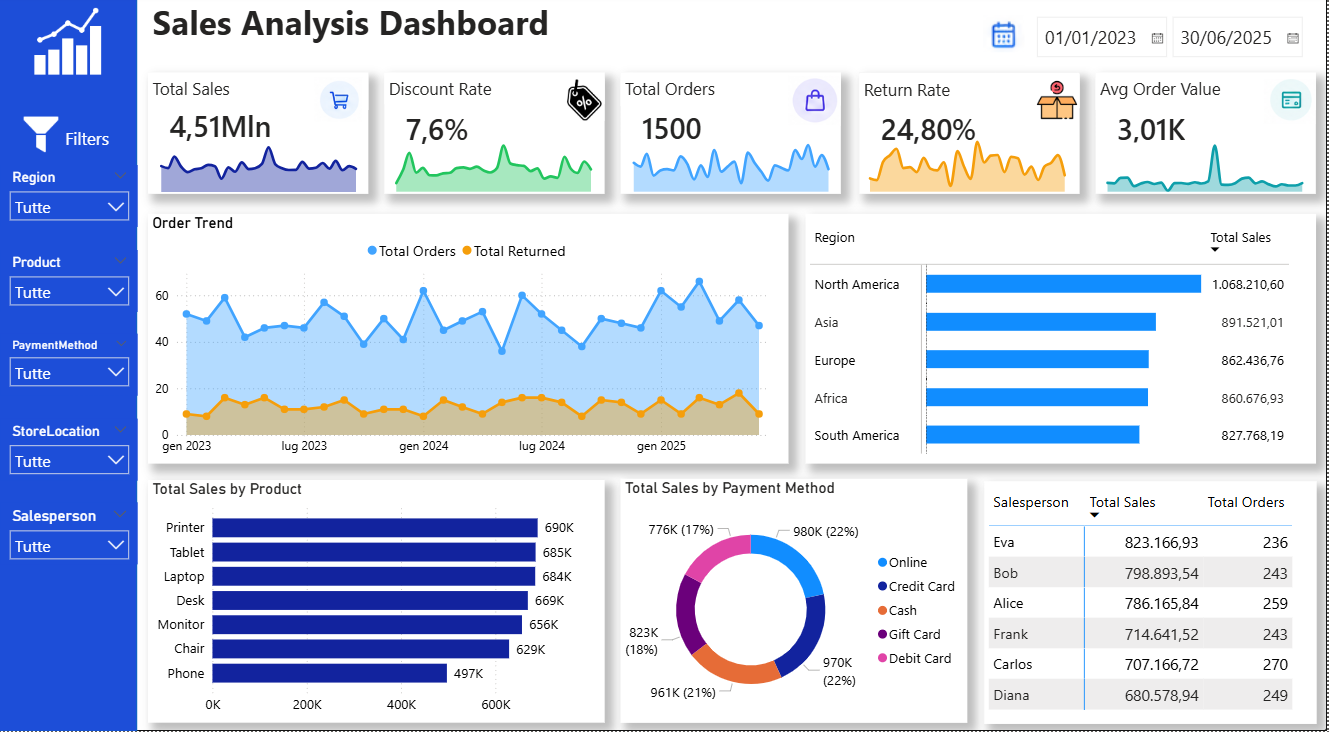

This screenshot's page, from the dashboard's own definition file:
{"tool":"powerbi","page":{"name":"Pagina 1","canvas":[1480,820],"ordinal":0},"visuals":[{"type":"textbox","box":[166.8,0,462.1,71.7],"z":0},{"type":"shape","box":[0,0,155,820.8],"z":1000},{"type":"shape","box":[166.8,86.7,245.2,135.1],"z":2000},{"type":"shape","box":[430.4,86.7,245.2,135.1],"z":3000},{"type":"shape","box":[694,86.7,245.2,135.1],"z":4000},{"type":"shape","box":[959.2,86.7,245.2,135.1],"z":5000},{"type":"shape","box":[1222.8,86.7,245.2,135.1],"z":6000},{"type":"textbox","box":[430.4,86.7,245.2,35],"z":7000},{"type":"textbox","box":[959.2,88.4,245.2,38.4],"z":8000},{"type":"textbox","box":[166.8,86.7,245.2,41.7],"z":9000},{"type":"textbox","box":[694,86.7,245.2,36.7],"z":10000},{"type":"textbox","box":[1222.8,86.7,245.2,41.7],"z":11000},{"type":"cardVisual","fields":{"Data":["Measure.Total Sales"]},"box":[166.8,111.8,171.8,65.1],"z":12000},{"type":"cardVisual","fields":{"Data":["Measure.Discount Rate"]},"box":[430.4,110.8,123.4,73.4],"z":13000},{"type":"cardVisual","fields":{"Data":["Measure.Return Rate"]},"box":[959.2,116.6,160.1,61.7],"z":14000},{"type":"lineChart","fields":{"Y":["Measure.Total Sales"],"Category":["Calendar.Date.Variazione.Gerarchia data.Anno","Calendar.Date.Variazione.Gerarchia data.Mese"]},"box":[166.8,148.5,246.9,76.7],"z":15000},{"type":"cardVisual","fields":{"Data":["Measure.Total Orders"]},"box":[694,113.3,136.8,68.4],"z":16000},{"type":"cardVisual","fields":{"Data":["Measure.AOV"]},"box":[1222.8,118.3,168.5,58.4],"z":17000},{"type":"image","box":[352,86.7,58.4,61.7],"z":18000},{"type":"image","box":[880.8,86.7,58.4,61.7],"z":19000},{"type":"image","box":[1409.6,86.7,58.4,61.7],"z":20000},{"type":"image","box":[630.6,88.4,45,58.4],"z":21000},{"type":"image","box":[1156.1,88.4,48.4,58.4],"z":22000},{"type":"areaChart","title":"Order Trend","fields":{"Category":["Calendar.Date.Variazione.Gerarchia data.Anno","Calendar.Date.Variazione.Gerarchia data.Mese"],"Y":["Measure.Total Orders","Measure.Total Returned"]},"box":[166.8,243.6,714,278.6],"z":23000},{"type":"lineChart","fields":{"Category":["Calendar.Date.Variazione.Gerarchia data.Anno","Calendar.Date.Variazione.Gerarchia data.Mese"],"Y":["Measure.Discount Rate"]},"box":[429.1,147.8,246.9,76.7],"z":24000},{"type":"lineChart","fields":{"Category":["Calendar.Date.Variazione.Gerarchia data.Anno","Calendar.Date.Variazione.Gerarchia data.Mese"],"Y":["Measure.Total Orders"]},"box":[693.1,147.8,246.9,76.7],"z":25000},{"type":"lineChart","fields":{"Category":["Calendar.Date.Variazione.Gerarchia data.Anno","Calendar.Date.Variazione.Gerarchia data.Mese"],"Y":["Measure.Return Rate"]},"box":[957.1,147.8,246.9,76.7],"z":26000},{"type":"lineChart","fields":{"Category":["Calendar.Date.Variazione.Gerarchia data.Anno","Calendar.Date.Variazione.Gerarchia data.Mese"],"Y":["Measure.AOV"]},"box":[1221.1,147.8,246.9,76.7],"z":27000},{"type":"pivotTable","fields":{"Rows":["Sales.Region"],"Values":["Measure.Sales Bar","Measure.Total Sales"]},"box":[899.2,243.6,568.9,278.6],"z":28000},{"type":"barChart","title":"Total Sales by Product","fields":{"Category":["Sales.Product"],"Y":["Measure.Total Sales"]},"box":[166.8,540.5,508.8,270.2],"z":29000},{"type":"donutChart","title":"Total Sales by Payment Method","fields":{"Y":["Measure.Total Sales"],"Category":["Sales.PaymentMethod"]},"box":[694.1,539.5,386.6,272.4],"z":30000},{"type":"pivotTable","fields":{"Rows":["Sales.Salesperson"],"Values":["Measure.Total Sales","Measure.Total Orders"]},"box":[1098.3,541.3,370.8,270.6],"z":31000},{"type":"slicer","fields":{"Values":["Sales.Region"]},"box":[2.1,189.8,152.9,68.5],"z":32000},{"type":"slicer","fields":{"Values":["Sales.Product"]},"box":[2.1,283.8,152.9,68.5],"z":33000},{"type":"slicer","fields":{"Values":["Sales.PaymentMethod"]},"box":[2.1,377.8,152.9,68.5],"z":34000},{"type":"slicer","fields":{"Values":["Sales.Salesperson"]},"box":[2.1,565.9,152.9,68.5],"z":35000},{"type":"slicer","fields":{"Values":["Sales.StoreLocation"]},"box":[2.1,471.8,152.9,68.5],"z":36000},{"type":"textbox","box":[1.4,142.1,154.6,43.2],"z":37000},{"type":"image","box":[20,133.5,56.7,43.4],"z":38000},{"type":"image","box":[1.8,10.5,152.9,77.3],"z":39000},{"type":"image","box":[1097.7,12.9,46.7,61.7],"z":41000},{"type":"slicer","fields":{"Values":["Calendar.Date"]},"box":[1144.4,13.3,323.6,65.1],"z":41001}]}

Visuals, with their boxes in screenshot pixels (x1, y1, x2, y2), scaled from the page's 1480x820 canvas onto the 1329x732 screenshot:
textbox: (left=150, top=0, right=565, bottom=64)
shape: (left=0, top=0, right=139, bottom=731)
shape: (left=150, top=77, right=370, bottom=198)
shape: (left=386, top=77, right=607, bottom=198)
shape: (left=623, top=77, right=843, bottom=198)
shape: (left=861, top=77, right=1082, bottom=198)
shape: (left=1098, top=77, right=1318, bottom=198)
textbox: (left=386, top=77, right=607, bottom=109)
textbox: (left=861, top=79, right=1082, bottom=113)
textbox: (left=150, top=77, right=370, bottom=115)
textbox: (left=623, top=77, right=843, bottom=110)
textbox: (left=1098, top=77, right=1318, bottom=115)
cardVisual - Measure.Total Sales: (left=150, top=100, right=304, bottom=158)
cardVisual - Measure.Discount Rate: (left=386, top=99, right=497, bottom=164)
cardVisual - Measure.Return Rate: (left=861, top=104, right=1005, bottom=159)
lineChart - Measure.Total Sales x Calendar.Date.Variazione.Gerarchia data.Anno: (left=150, top=133, right=371, bottom=201)
cardVisual - Measure.Total Orders: (left=623, top=101, right=746, bottom=162)
cardVisual - Measure.AOV: (left=1098, top=106, right=1249, bottom=158)
image: (left=316, top=77, right=369, bottom=132)
image: (left=791, top=77, right=843, bottom=132)
image: (left=1266, top=77, right=1318, bottom=132)
image: (left=566, top=79, right=607, bottom=131)
image: (left=1038, top=79, right=1082, bottom=131)
"Order Trend" areaChart: (left=150, top=217, right=791, bottom=466)
lineChart - Calendar.Date.Variazione.Gerarchia data.Anno x Calendar.Date.Variazione.Gerarchia data.Mese: (left=385, top=132, right=607, bottom=200)
lineChart - Calendar.Date.Variazione.Gerarchia data.Anno x Calendar.Date.Variazione.Gerarchia data.Mese: (left=622, top=132, right=844, bottom=200)
lineChart - Calendar.Date.Variazione.Gerarchia data.Anno x Calendar.Date.Variazione.Gerarchia data.Mese: (left=859, top=132, right=1081, bottom=200)
lineChart - Calendar.Date.Variazione.Gerarchia data.Anno x Calendar.Date.Variazione.Gerarchia data.Mese: (left=1097, top=132, right=1318, bottom=200)
pivotTable - Sales.Region x Measure.Sales Bar: (left=807, top=217, right=1318, bottom=466)
"Total Sales by Product" barChart: (left=150, top=482, right=607, bottom=724)
"Total Sales by Payment Method" donutChart: (left=623, top=482, right=970, bottom=725)
pivotTable - Sales.Salesperson x Measure.Total Sales: (left=986, top=483, right=1319, bottom=725)
slicer - Sales.Region: (left=2, top=169, right=139, bottom=231)
slicer - Sales.Product: (left=2, top=253, right=139, bottom=314)
slicer - Sales.PaymentMethod: (left=2, top=337, right=139, bottom=398)
slicer - Sales.Salesperson: (left=2, top=505, right=139, bottom=566)
slicer - Sales.StoreLocation: (left=2, top=421, right=139, bottom=482)
textbox: (left=1, top=127, right=140, bottom=165)
image: (left=18, top=119, right=69, bottom=158)
image: (left=2, top=9, right=139, bottom=78)
image: (left=986, top=12, right=1028, bottom=67)
slicer - Calendar.Date: (left=1028, top=12, right=1318, bottom=70)
